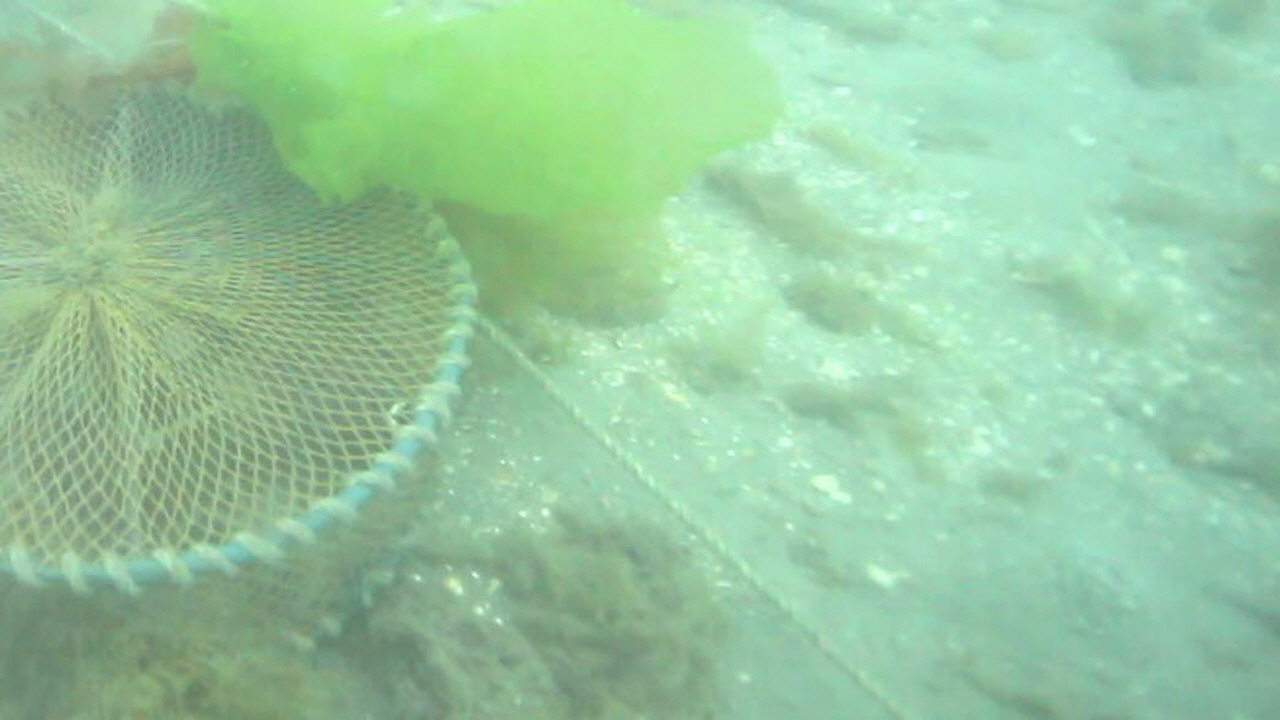circular fish trap: (2, 79, 472, 665)
rope: (475, 311, 923, 720)
